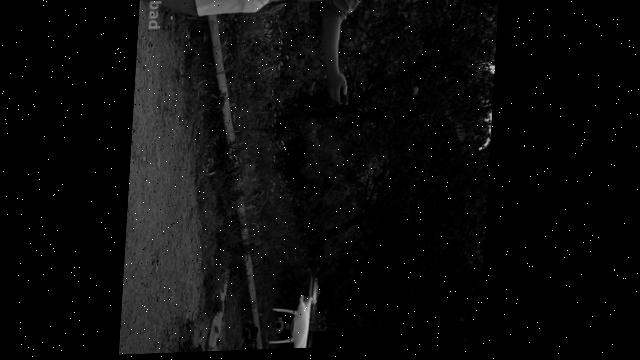drone: (274, 281, 322, 352)
